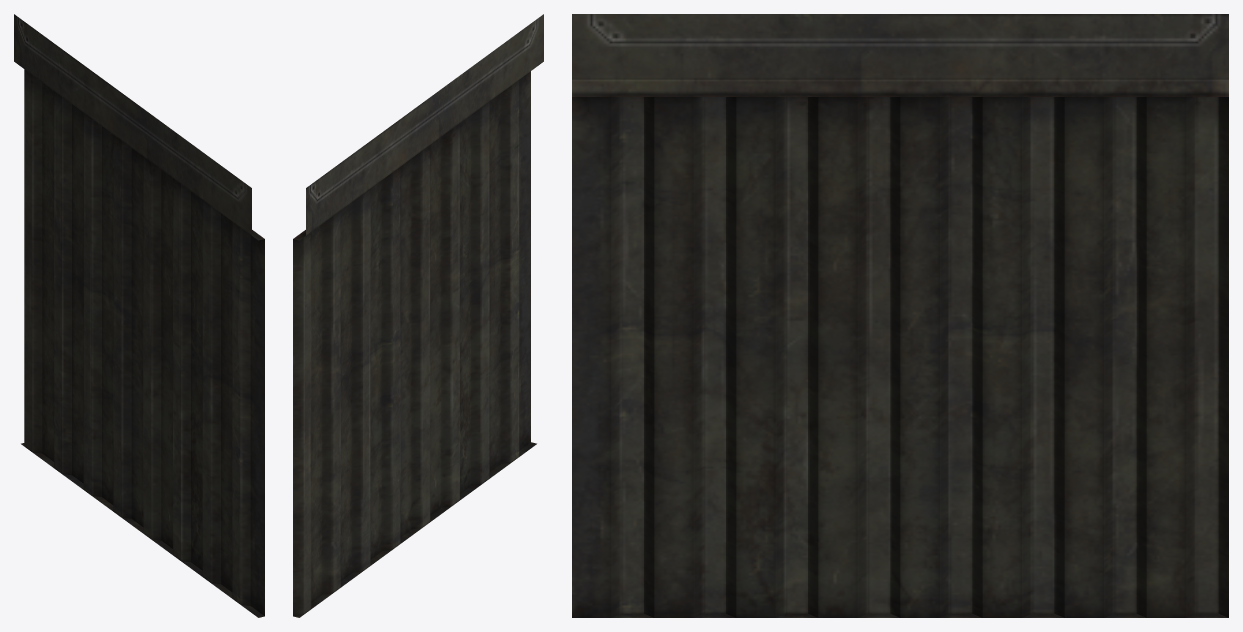
Rendered from pplant_bulkhead.dae.
3 renders of one model, left to right at view 1: azimuth 30°, elevation 25°; view 2: azimuth 150°, elevation 25°; view 3: azimuth 270°, elevation 25°, orthographic. The views are drawn at different scales.
Parts seen in each view (by area): view 1: bulkhead; view 2: bulkhead; view 3: bulkhead.
Part boxes in pixels (left/top/right/bottom): bulkhead: left=14, top=14, right=264, bottom=617; bulkhead: left=293, top=14, right=543, bottom=617; bulkhead: left=572, top=14, right=1228, bottom=617.
Size of the model in its own units: 0.125 by 4 by 4.
